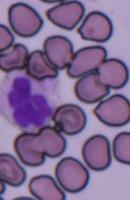N: (1, 69, 58, 132)
